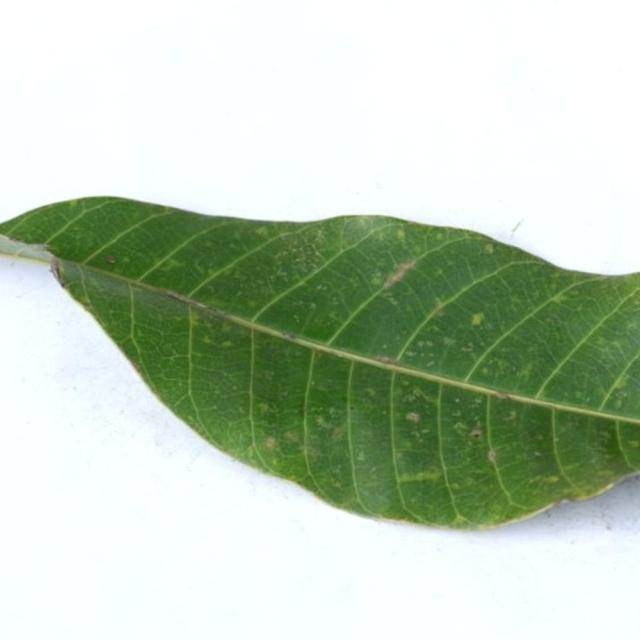Mango: (0, 196, 639, 533)
Powdery_Mildew: (403, 375, 510, 465), (192, 308, 249, 358), (395, 393, 444, 451), (397, 332, 453, 372), (275, 234, 324, 271), (384, 258, 419, 288), (395, 407, 432, 430), (397, 468, 443, 483), (259, 405, 282, 429), (373, 355, 404, 368), (613, 389, 631, 407), (611, 376, 629, 392), (163, 258, 185, 271), (519, 363, 534, 381), (407, 388, 425, 402), (552, 292, 572, 304), (186, 310, 198, 329), (283, 430, 300, 443), (246, 444, 260, 459), (470, 312, 484, 326), (254, 226, 270, 238), (452, 514, 468, 526), (264, 436, 277, 450), (494, 391, 511, 401), (258, 402, 272, 414), (503, 409, 517, 421), (280, 331, 296, 341), (370, 275, 383, 287), (543, 475, 560, 483), (442, 336, 455, 346), (386, 296, 399, 306), (206, 268, 219, 278), (314, 229, 324, 242), (201, 335, 213, 345), (547, 316, 560, 325), (433, 267, 444, 277), (435, 306, 446, 316), (396, 228, 405, 240), (485, 244, 495, 254), (348, 277, 358, 287), (221, 324, 232, 333), (328, 311, 339, 320), (599, 431, 611, 439), (568, 289, 580, 297), (68, 198, 80, 206), (472, 397, 482, 406), (615, 399, 624, 409), (366, 387, 376, 396), (248, 301, 258, 310), (106, 255, 116, 264), (233, 231, 242, 240), (204, 240, 214, 248), (575, 391, 584, 399), (292, 314, 301, 322), (435, 232, 444, 240), (481, 367, 489, 375), (309, 302, 317, 310), (406, 350, 415, 357), (424, 340, 433, 347), (122, 256, 131, 263), (453, 410, 462, 416), (634, 439, 640, 447), (382, 343, 388, 349), (455, 398, 460, 403)
